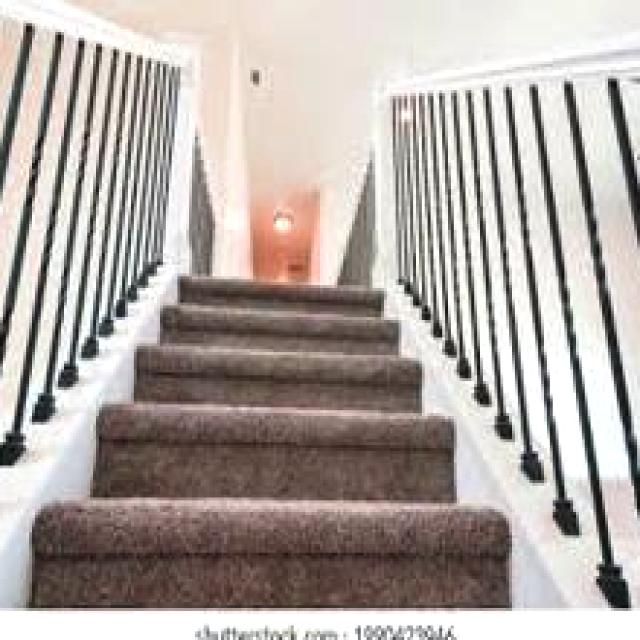upstair: (47, 310, 484, 560)
